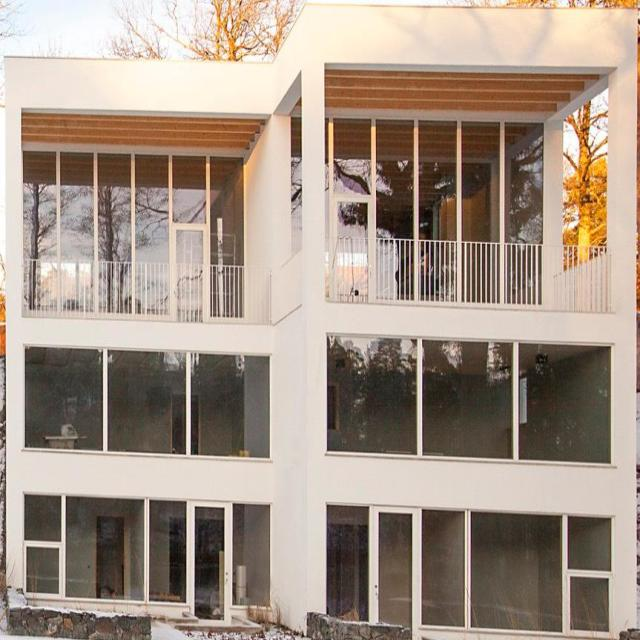Railing: (323, 234, 611, 311), (18, 252, 273, 322)
door: (367, 505, 420, 630), (186, 502, 231, 627)
plant: (104, 0, 306, 63)
wall: (6, 3, 638, 639)
windows: (326, 335, 611, 466), (19, 339, 270, 458), (322, 113, 543, 242), (23, 149, 244, 262), (423, 508, 614, 636), (23, 491, 187, 621), (326, 507, 369, 628), (232, 504, 269, 620)
